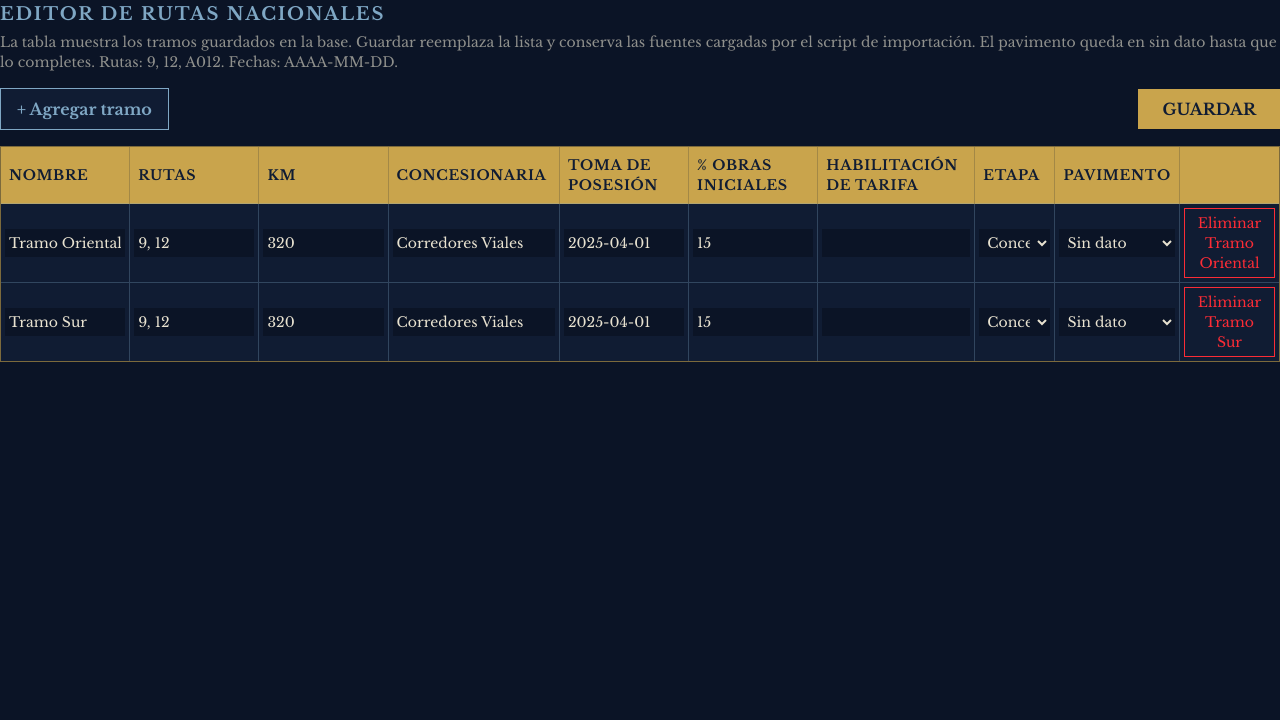
Test: asks to confirm an irreversible save that deletes stored tramos, and cancel saves nothing
What coordinates should you click on to do the following:
click the button "Eliminar Tramo Oriental"
I would click on:
 (1229, 243)
Its box is [1184,208,1275,278].
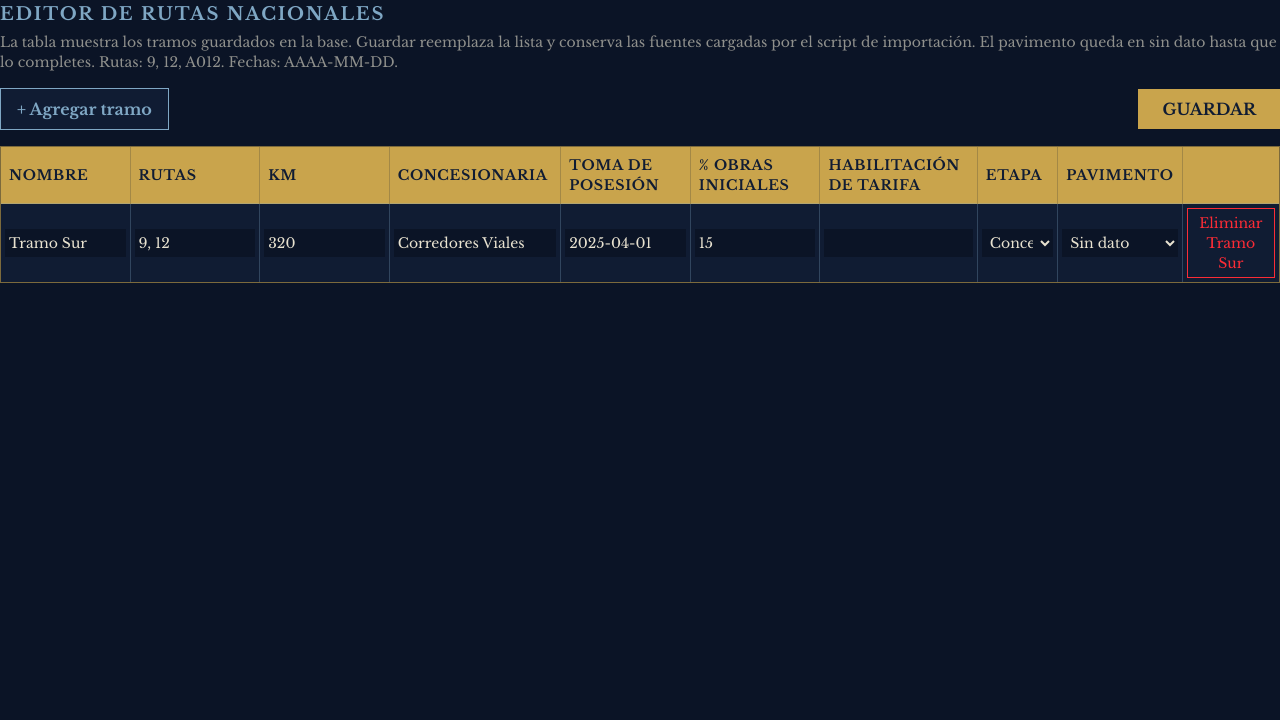
What coordinates should you click on to do the following:
click the button "Guardar"
I would click on:
 (1209, 109)
Its box is [1138,89,1279,129].
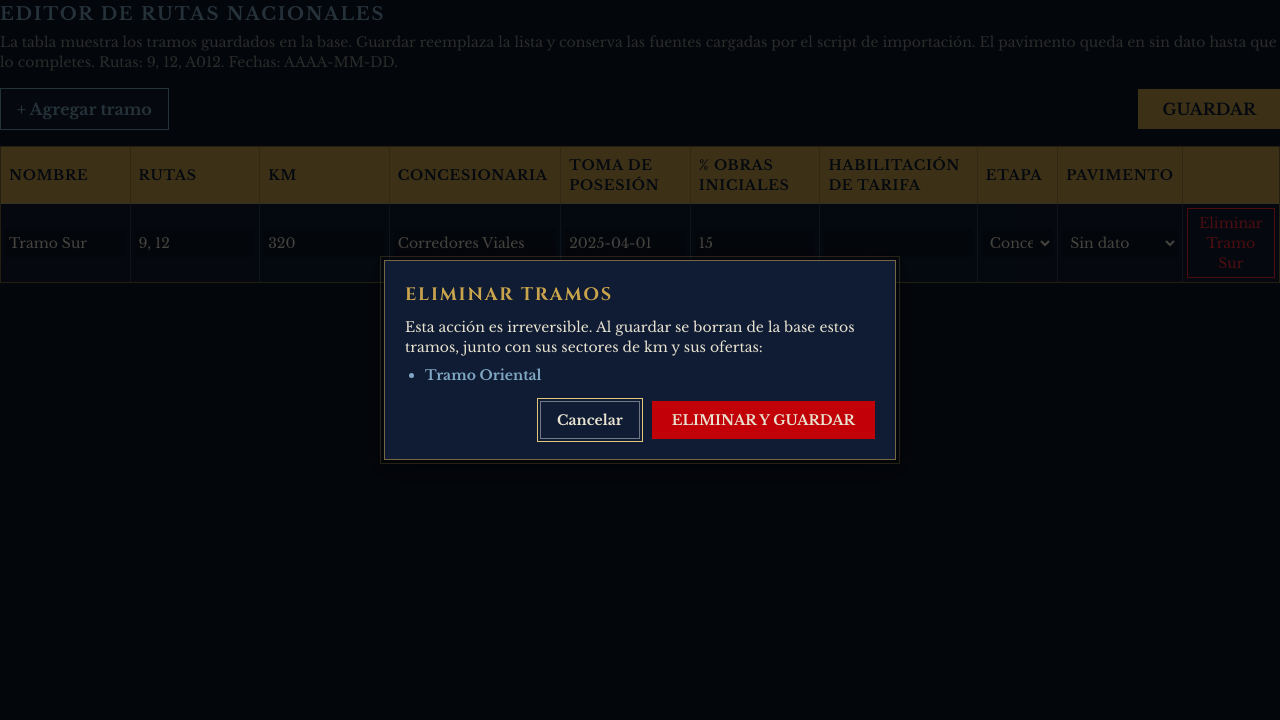
expect the dialog "Eliminar tramos" shows "irreversible": met, box [405,318,855,356]
expect the dialog "Eliminar tramos" shows "Tramo Oriental": met, box [425,366,542,384]
expect the dialog "Eliminar tramos" shows "sectores de km": met, box [405,318,855,356]
What coordinates should you click on to do the following:
click the button "Cancelar"
I would click on:
 (590, 420)
Its box is [540,401,640,439].
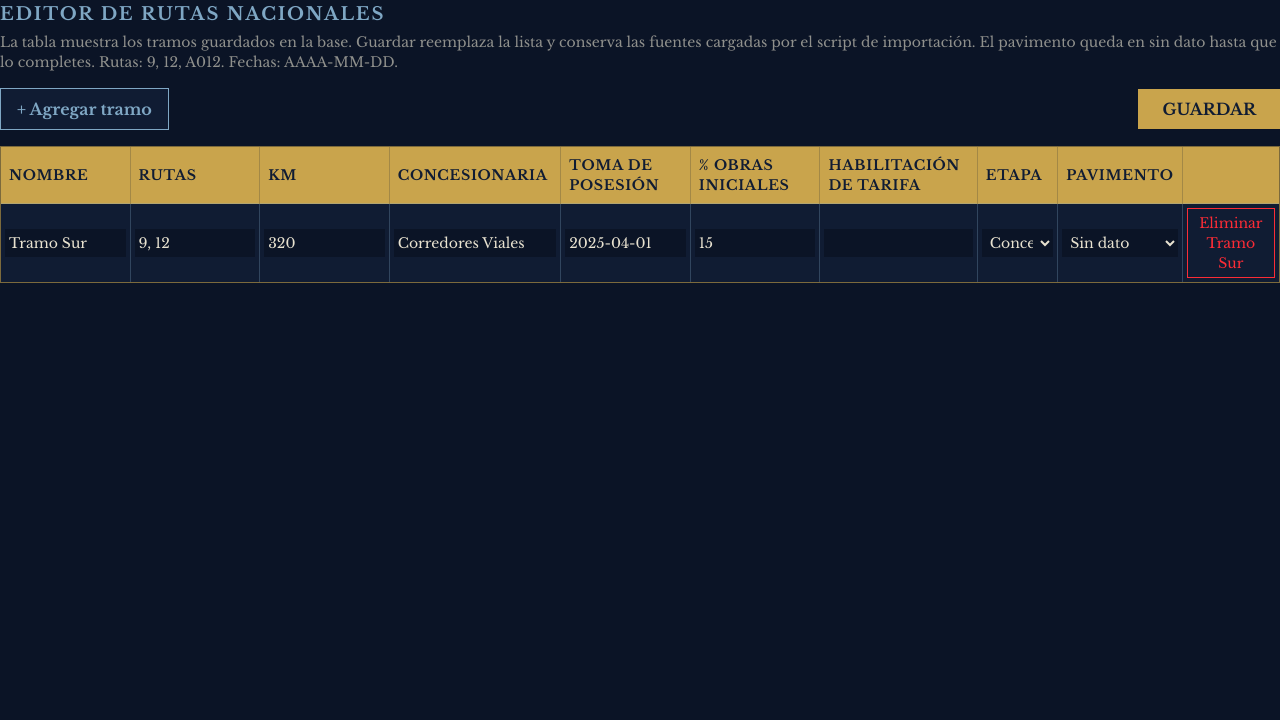
expect the dialog is gone: met
What coordinates should you click on to do the following:
click the button "Guardar"
I would click on:
 (1209, 109)
Its box is [1138,89,1279,129].
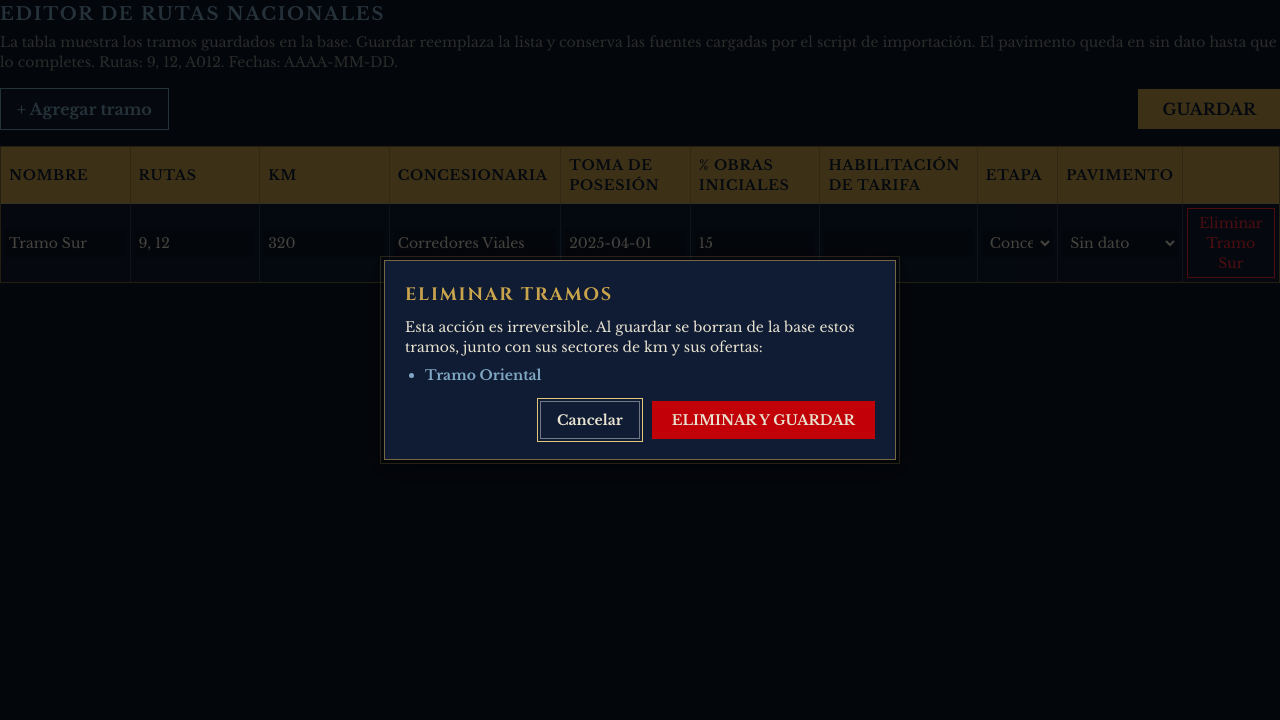
What coordinates should you click on to do the following:
click the button "Eliminar y guardar"
I would click on:
 (763, 420)
Its box is [652,401,875,439].
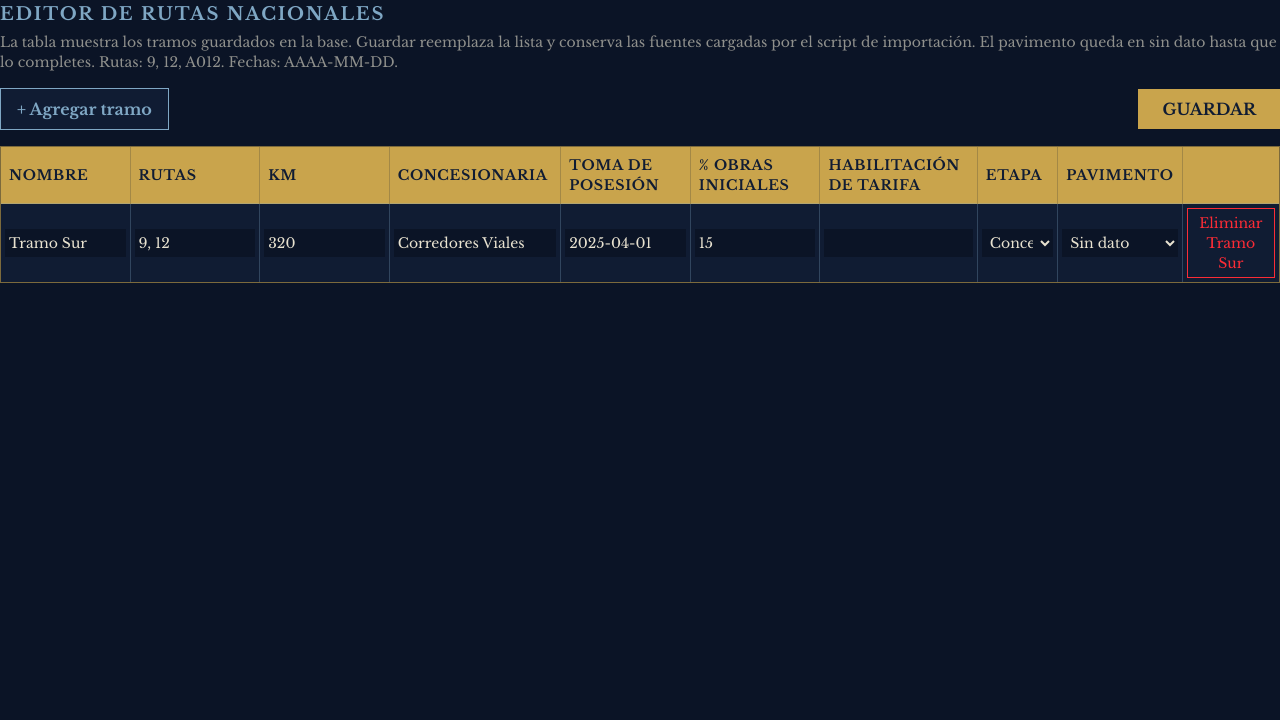
expect the dialog is gone: met
